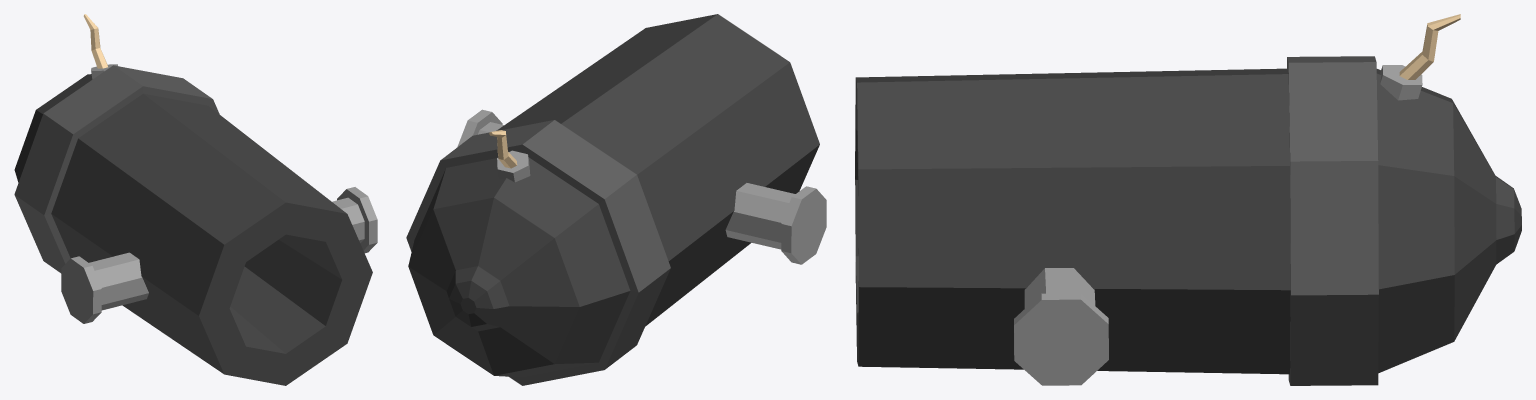
Rendered from cannon.muzzle.01.fbx.
3 renders of one model, left to right at view 1: azimuth 30°, elevation 25°; view 2: azimuth 150°, elevation 25°; view 3: azimuth 270°, elevation 25°, orthographic. The views are drawn at different scales.
Visible parts, largest first — view 1: cannon.muzzle.01; view 2: cannon.muzzle.01; view 3: cannon.muzzle.01.
Part boxes in pixels (x1,y1,x2,y2): cannon.muzzle.01: (14,14,377,385); cannon.muzzle.01: (406,14,826,385); cannon.muzzle.01: (855,14,1521,385).
Bounding box in the file's own units: 0.9856 × 0.7855 × 1.3.
